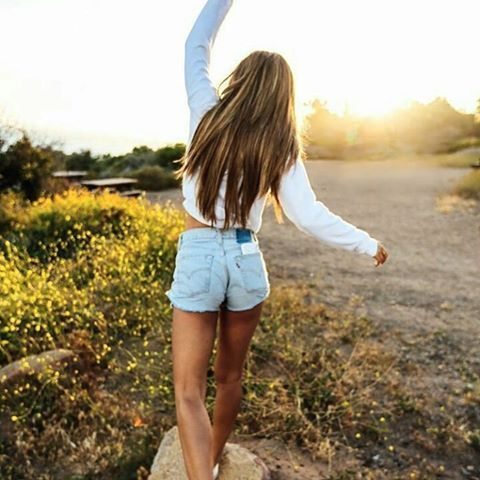person: (155, 27, 320, 341)
